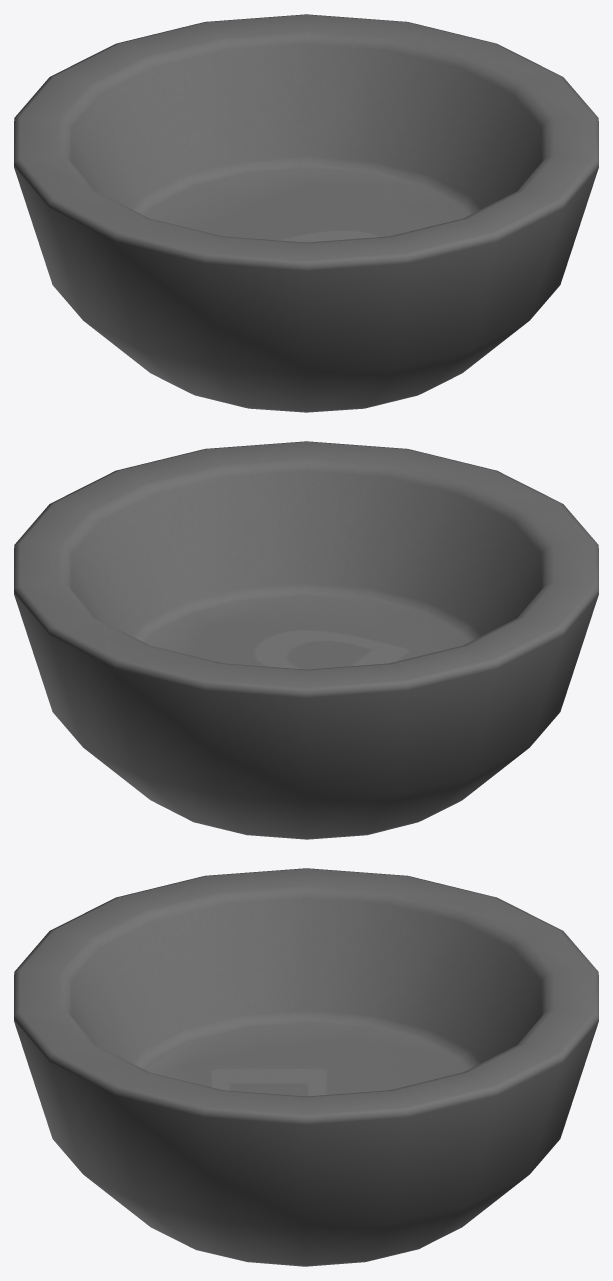
The model's file is Cendriller.obj.
The picture shows the model from 3 angles, top to bottom: view 1: azimuth 30°, elevation 25°; view 2: azimuth 150°, elevation 25°; view 3: azimuth 270°, elevation 25°; orthographic projection.
Visible parts, largest first — view 1: Cylinder002; view 2: Cylinder002; view 3: Cylinder002.
Boxes of the visible parts, <box> form: Cylinder002: <box>14,14,598,412</box>; Cylinder002: <box>14,441,598,839</box>; Cylinder002: <box>14,868,598,1266</box>.
Bounding box in the file's own units: 10.6 × 4 × 10.44.
